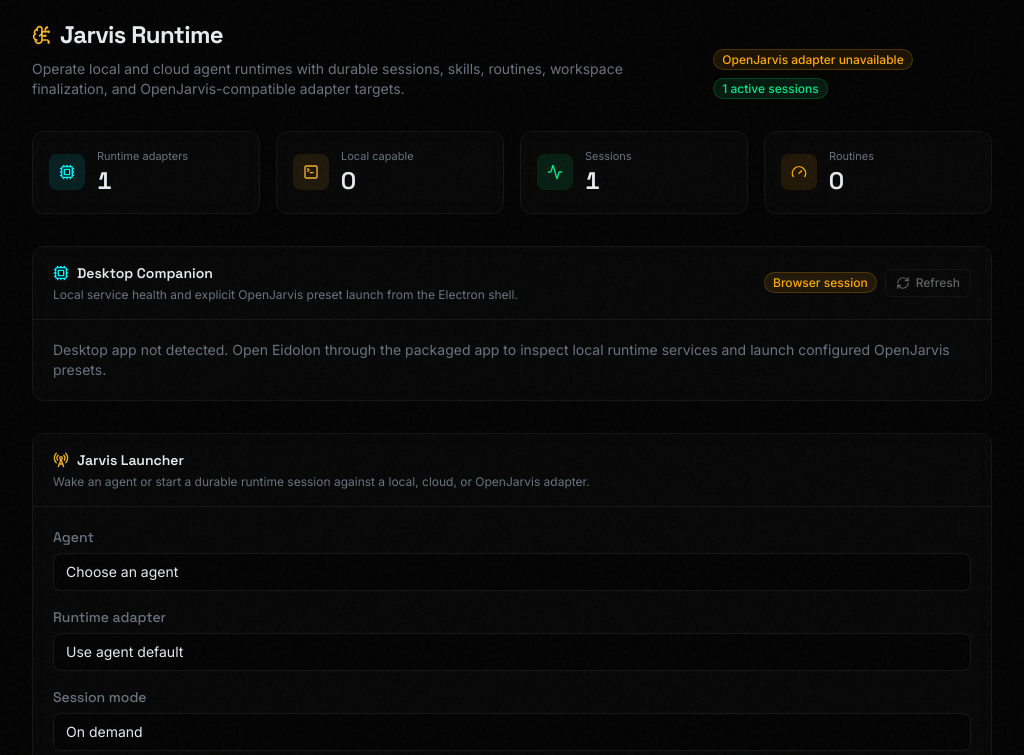
JarvisRuntime adapter operations › creates, tests, and runs a configured adapter session
Select "Runtime Agent (engineer)" in the dropdown labelled "Agent". click: (512, 572)
box: [53, 552, 971, 590]
(page scrolled)
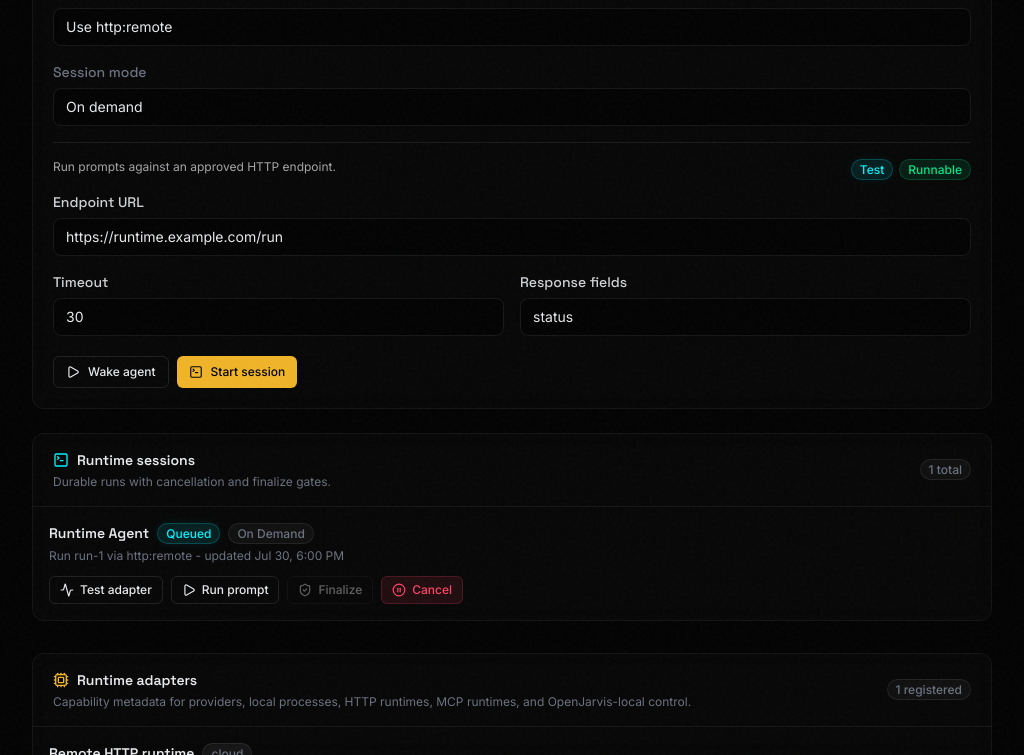
Check: the field labelled "Endpoint URL" holds "https://runtime.example.com/run", box [53, 218, 971, 256]
Click the button "Start session". click: (237, 372)
box: [176, 356, 297, 388]
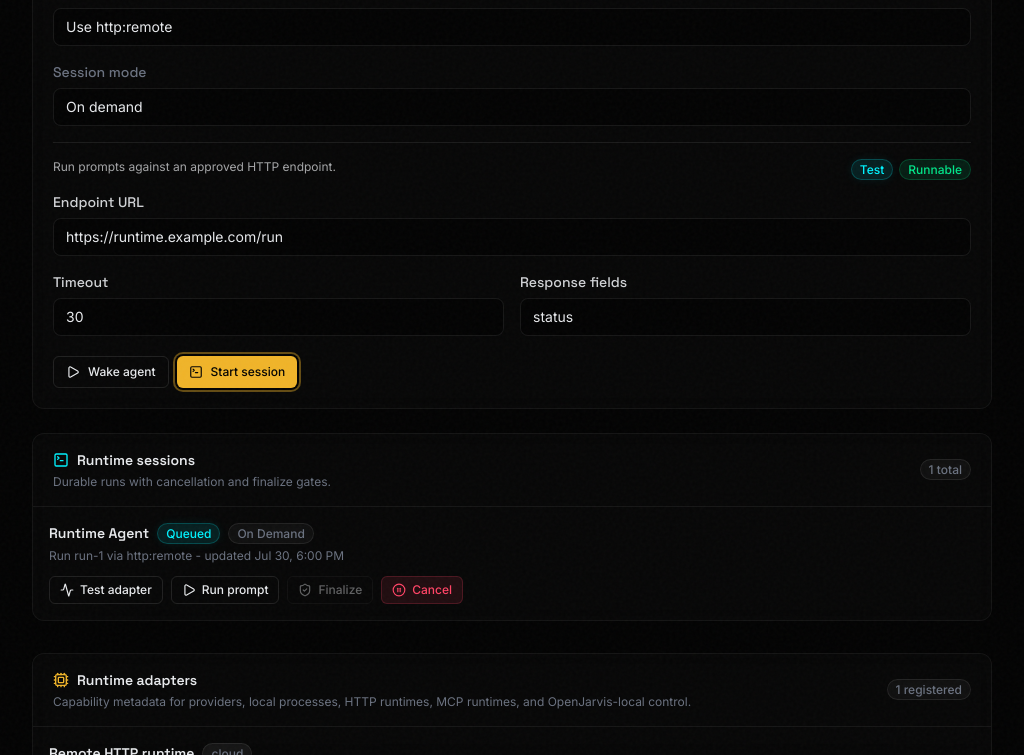
Click the button "Test adapter". click: (106, 590)
box: [49, 576, 163, 604]
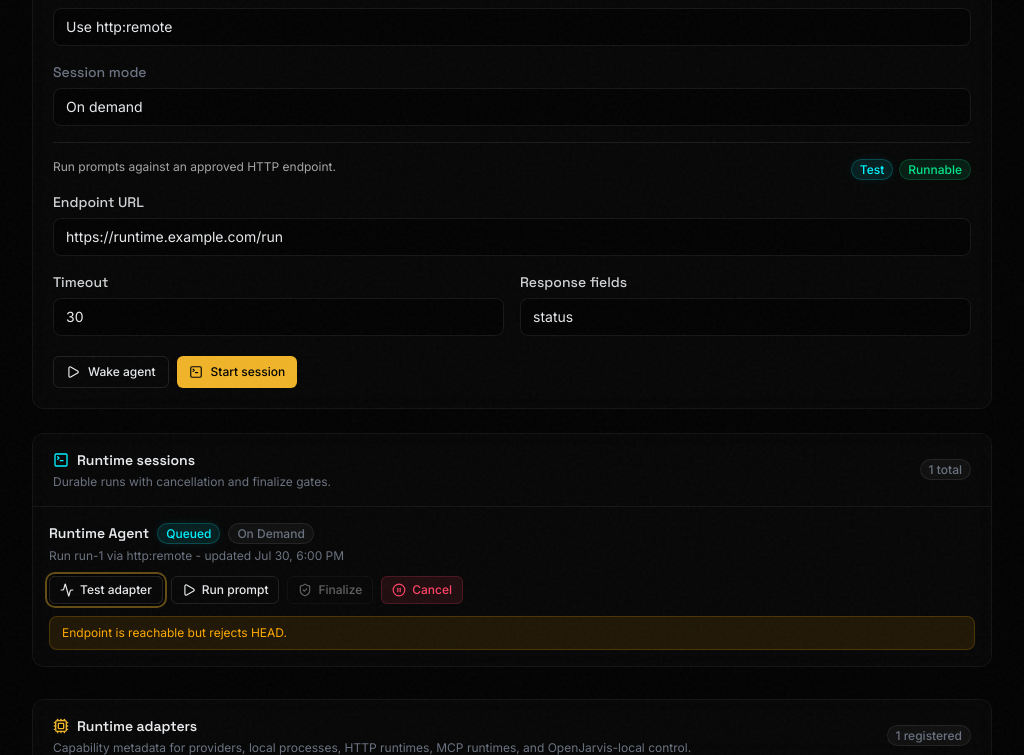
Check: the text "Endpoint is reachable but rejects HEAD." is shown, box [49, 616, 975, 650]
Click the button "Run prompt". click: (225, 590)
box: [171, 576, 280, 604]
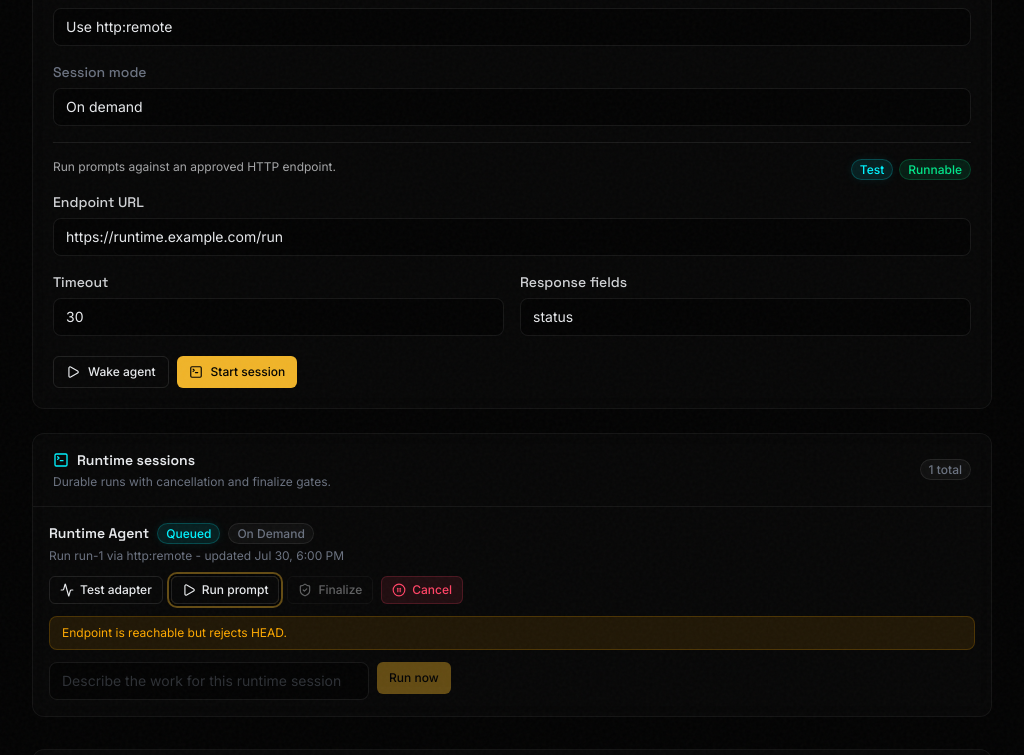
Type "Summarize the queue" into the field named "Prompt for Runtime Agent". click: (209, 680)
box: [49, 662, 369, 700]
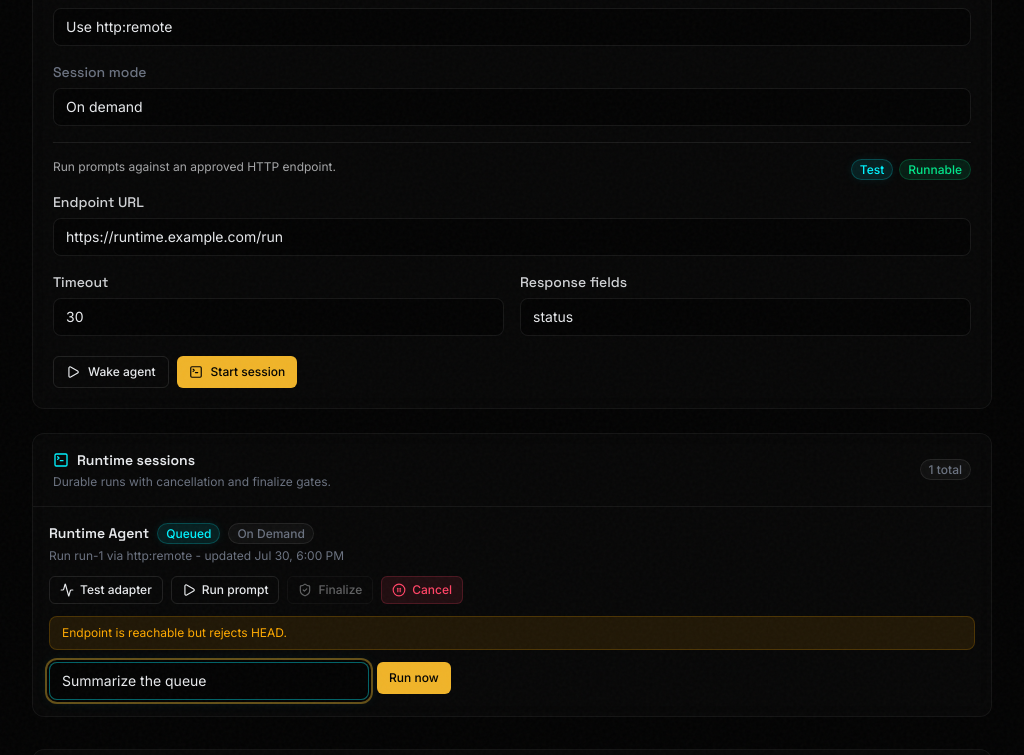
Click the button "Run now". click: (414, 678)
box: [377, 662, 451, 694]
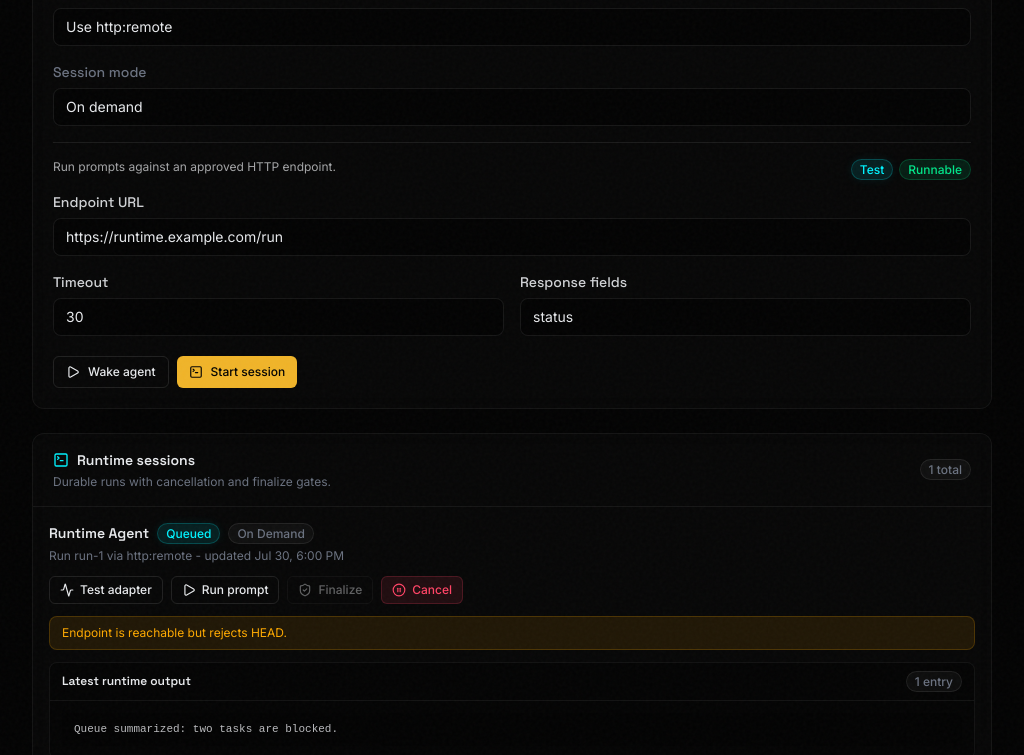
Check: the text "Latest runtime output" is shown, box [62, 673, 191, 689]
Check: the text "1 entry" is shown, box [906, 670, 962, 692]
Check: the text "Queue summarized: two tasks are blocked." is shown, box [62, 712, 962, 746]
